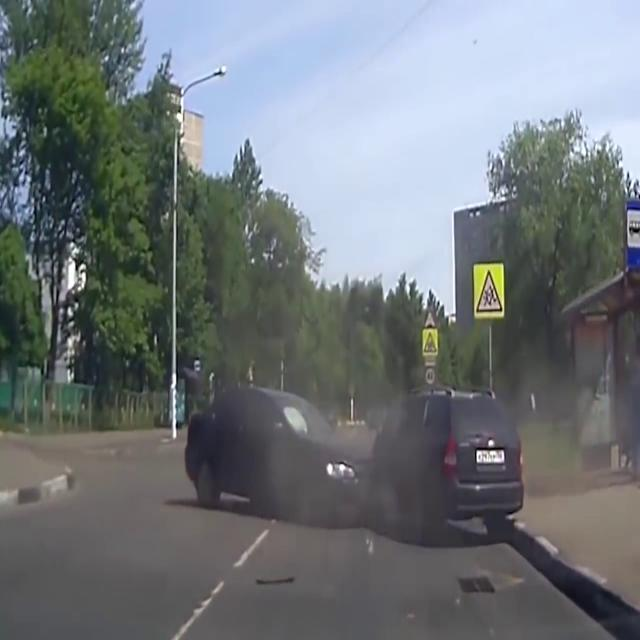accident: (182, 383, 526, 542)
